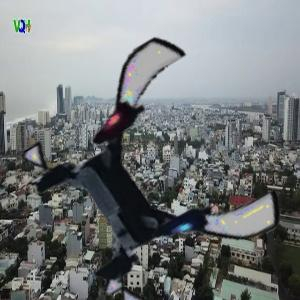drone: (33, 58, 265, 290)
